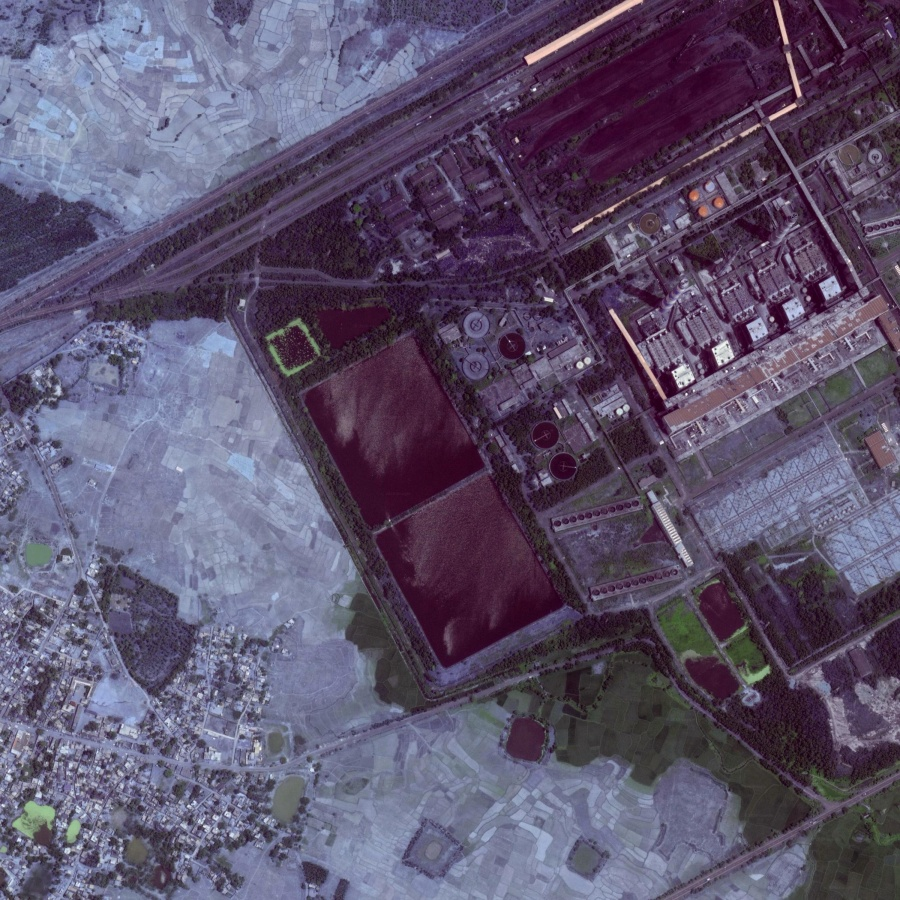PowerPlant: (275, 309, 638, 712)
